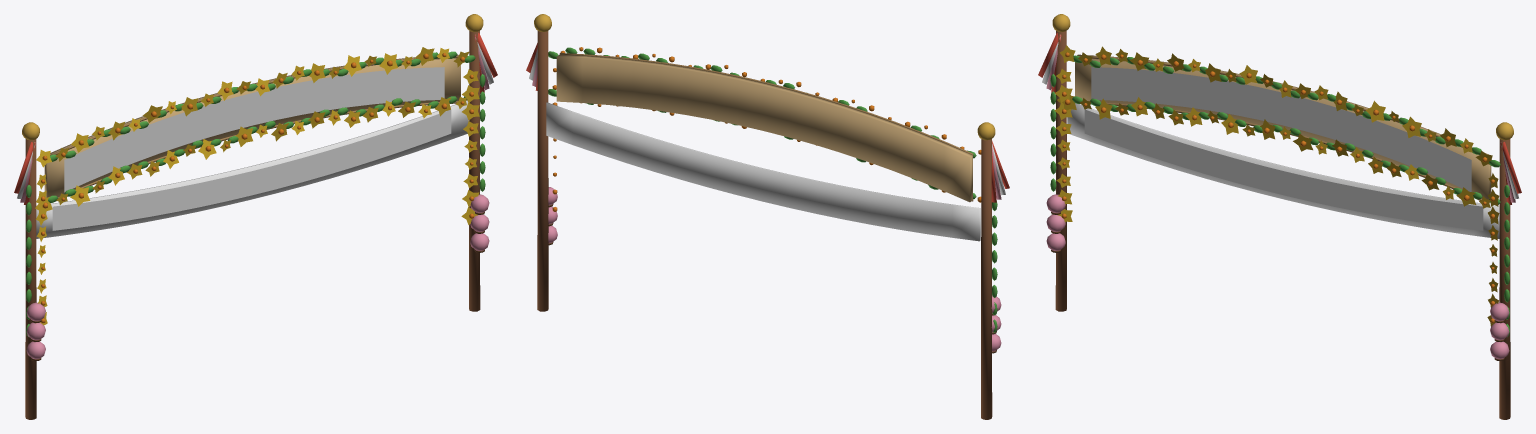
The model's file is arch.glb.
3 views of the same model, side by side, from view 1: azimuth 30°, elevation 25°; view 2: azimuth 150°, elevation 25°; view 3: azimuth 330°, elevation 25° (orthographic).
Parts seen in each view (by area): view 1: arch, arch_label, arch_label1, arch_glow; view 2: arch, arch_glow; view 3: arch, arch_label, arch_label1, arch_glow.
Part boxes in pixels (left/top/right/bottom): arch: left=14, top=14, right=497, bottom=419; arch_label: left=64, top=67, right=444, bottom=192; arch_label1: left=52, top=109, right=451, bottom=230; arch_glow: left=26, top=194, right=489, bottom=359; arch: left=526, top=14, right=1009, bottom=419; arch_glow: left=548, top=187, right=1001, bottom=351; arch: left=1038, top=14, right=1521, bottom=419; arch_label: left=1091, top=67, right=1471, bottom=191; arch_label1: left=1084, top=109, right=1483, bottom=230; arch_glow: left=1046, top=194, right=1509, bottom=359.
Size of the model in its own units: 9.59 by 5.58 by 0.506.
